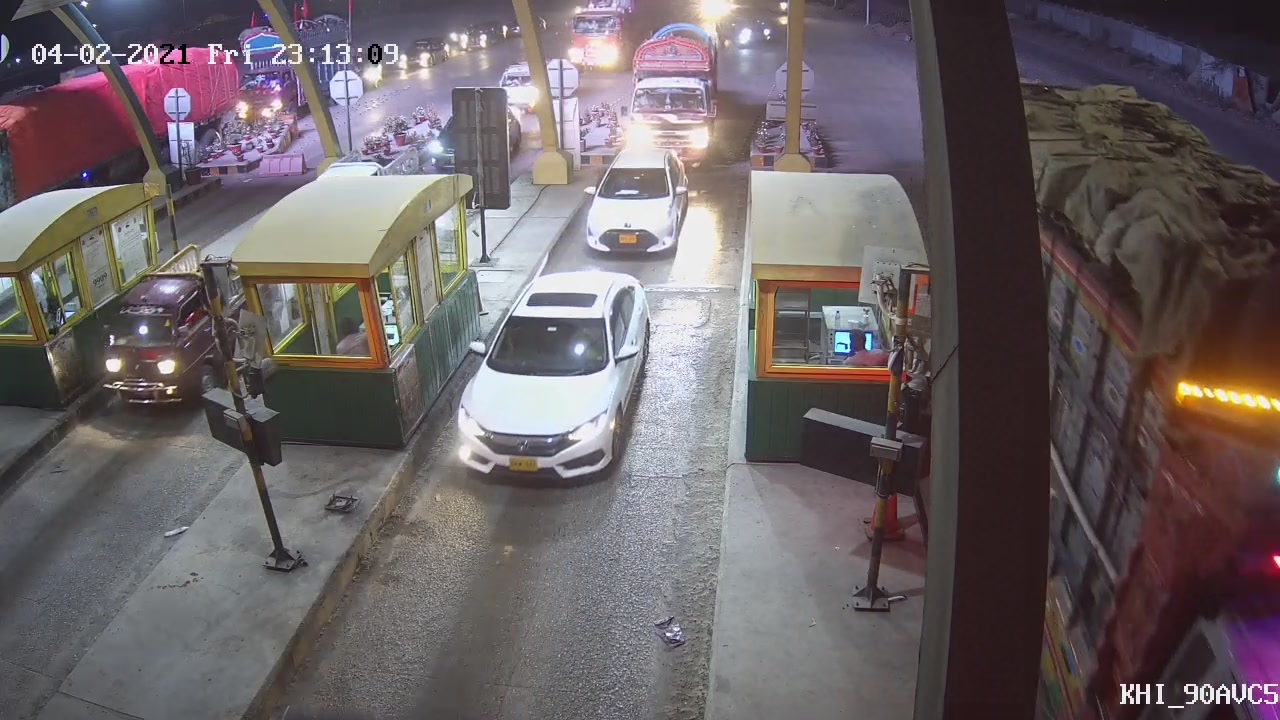F1: (453, 266, 659, 485), (574, 146, 691, 257)
